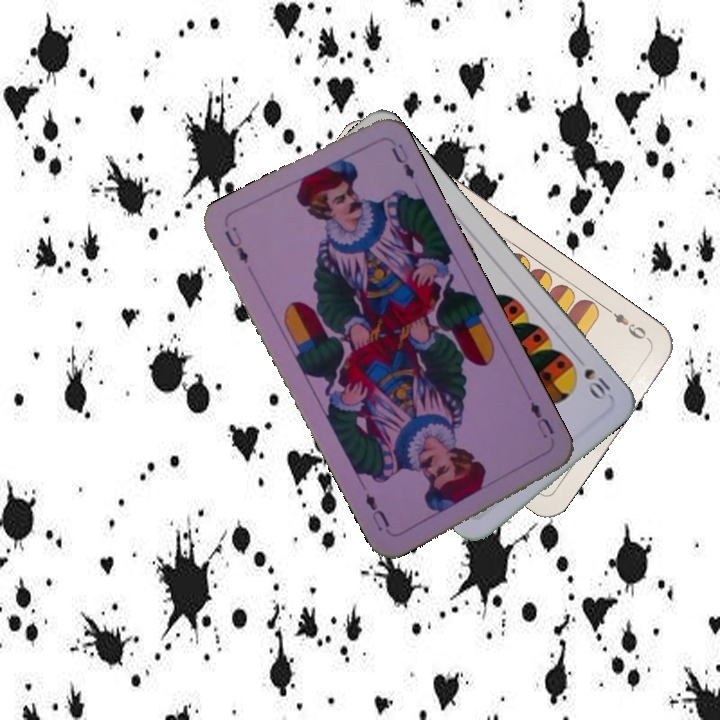E9: (602, 304, 653, 344)
EU: (523, 391, 557, 441), (220, 222, 251, 267)
S10: (571, 352, 615, 403)
